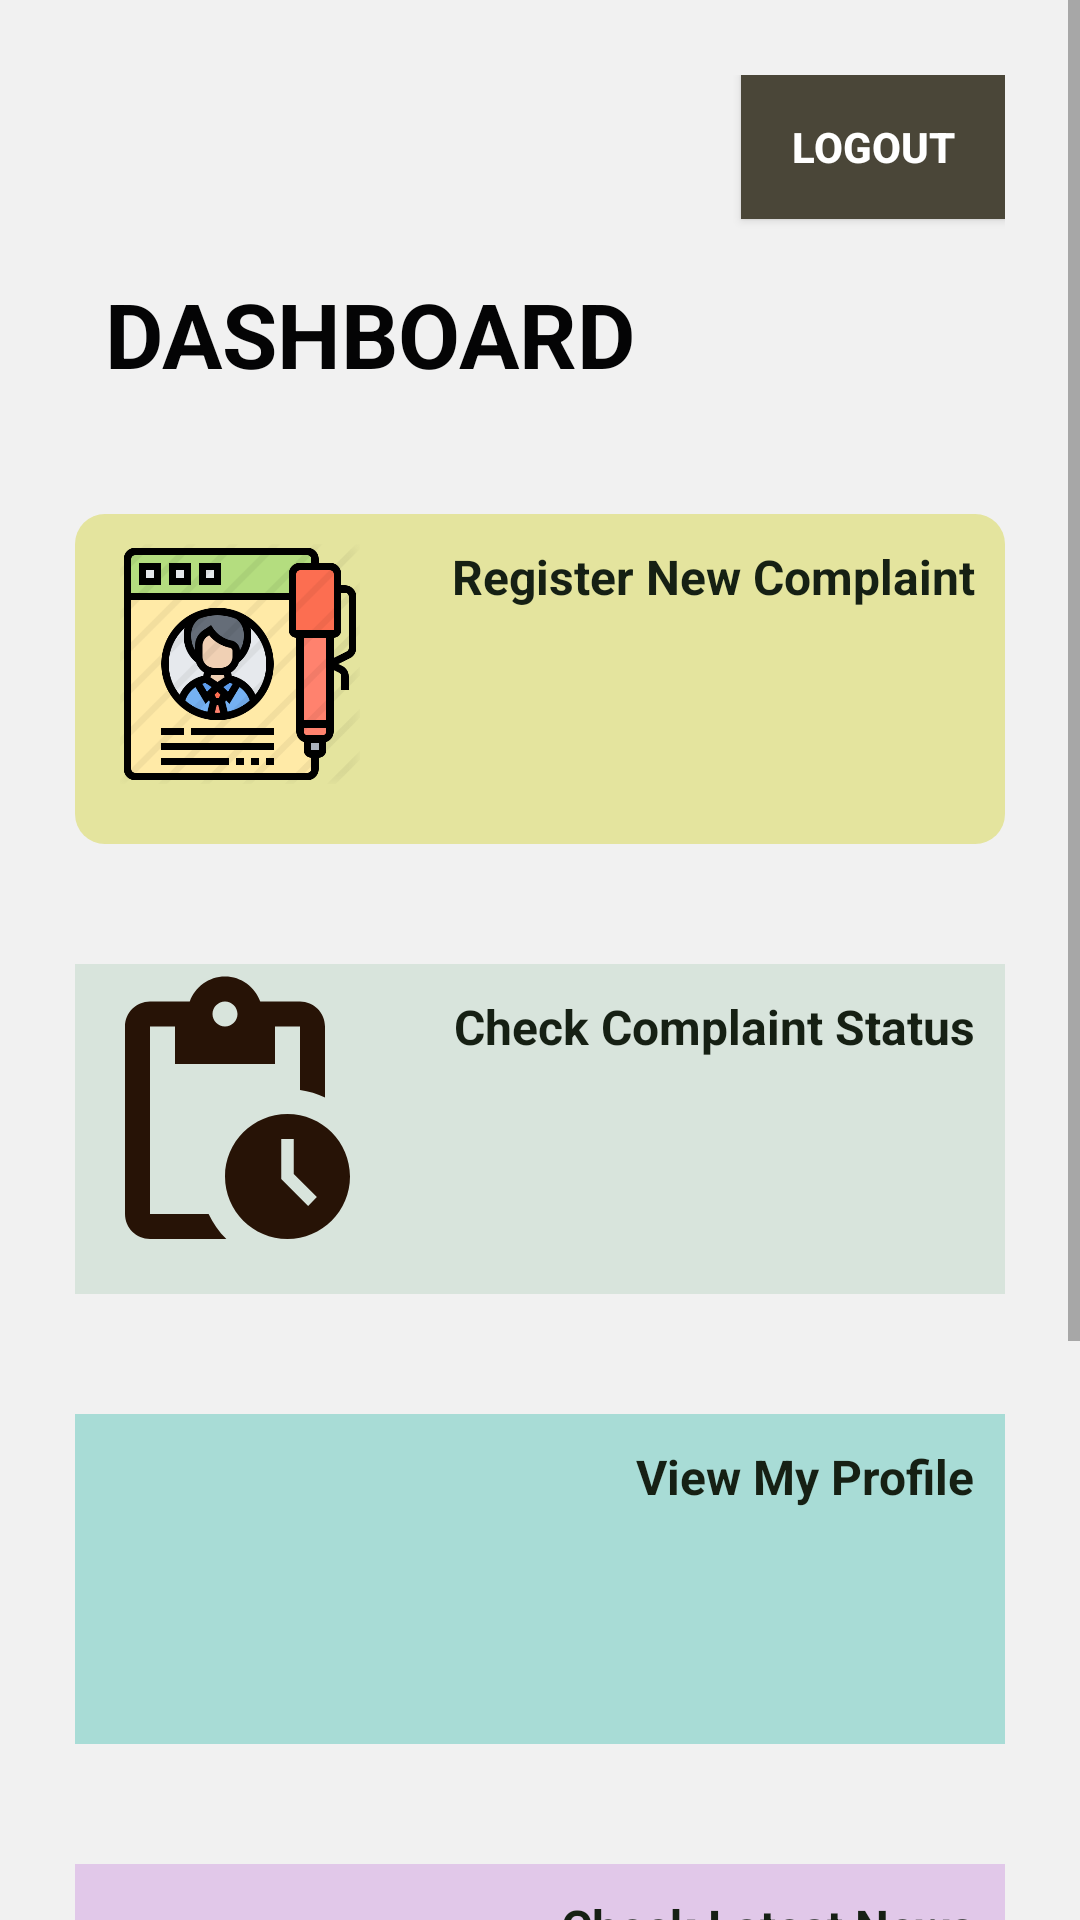

Where icons sit on this 1080×1920 app screen, as (x1, y1, x2, y2):
pending actions: (125, 976, 350, 1239)
